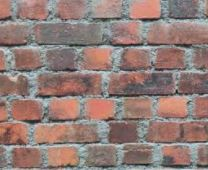brick: (108, 73, 175, 96), (32, 123, 100, 145), (145, 22, 208, 45), (36, 23, 103, 44), (38, 74, 103, 95), (153, 46, 187, 70), (80, 47, 114, 70), (46, 146, 83, 167), (11, 98, 45, 120), (120, 98, 154, 120), (45, 47, 76, 71), (109, 21, 141, 44), (156, 97, 188, 120), (147, 121, 182, 142), (83, 144, 119, 164), (47, 98, 81, 119), (160, 145, 194, 166), (10, 48, 42, 70), (11, 148, 43, 170), (121, 144, 156, 164), (1, 122, 30, 146), (107, 121, 140, 142), (178, 72, 208, 94), (120, 47, 151, 68), (18, 1, 52, 20), (1, 22, 28, 45), (129, 1, 162, 19), (86, 98, 114, 118), (92, 1, 124, 18), (1, 74, 27, 94), (169, 1, 200, 17), (183, 122, 208, 141), (59, 1, 87, 17), (190, 45, 208, 68), (1, 1, 13, 19)
